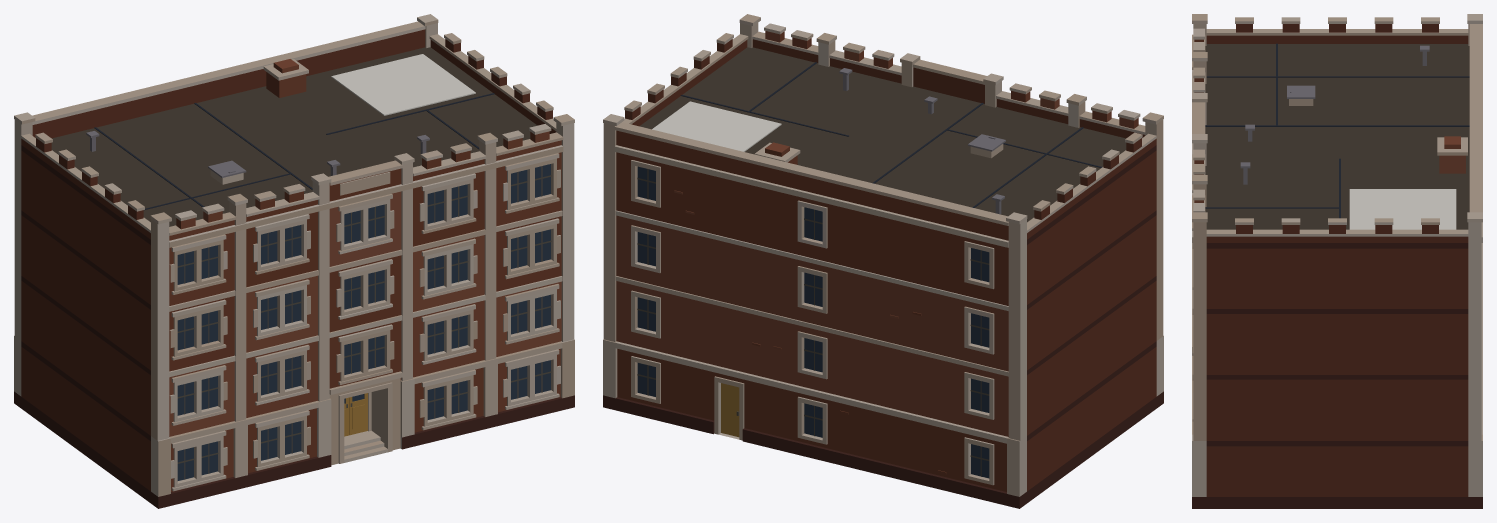
Rendered from public-school-19ade5.glb.
The picture shows the model from 3 angles, left to right: view 1: azimuth 30°, elevation 25°; view 2: azimuth 150°, elevation 25°; view 3: azimuth 270°, elevation 25°; orthographic projection.
Parts seen in each view (by area): view 1: school, door-right-leaf; view 2: school; view 3: school, roof-hatch-lid.
Part boxes in pixels (x1,y1,x2,y2): school: [14, 14, 574, 508]; door-right-leaf: [349, 393, 367, 435]; school: [603, 14, 1163, 508]; school: [1192, 14, 1482, 508]; roof-hatch-lid: [1287, 85, 1315, 98].
Bounding box in the file's own units: 20 × 13.2 × 12.
